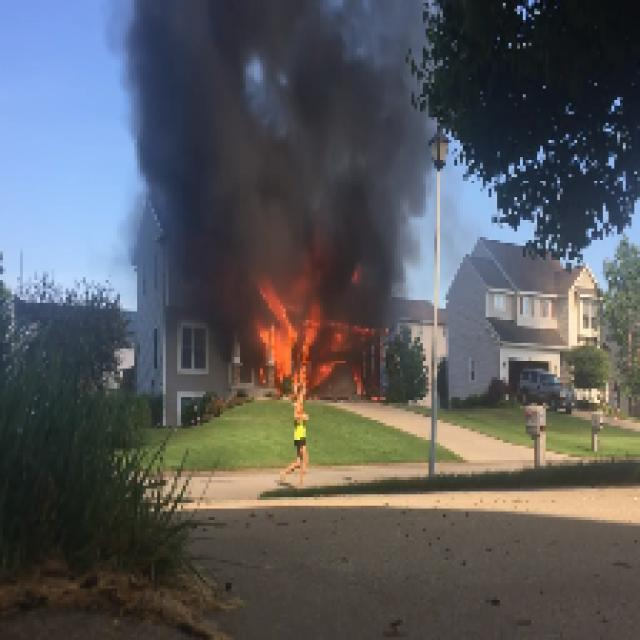fire: (259, 312, 335, 398)
smoke: (155, 5, 428, 286)
